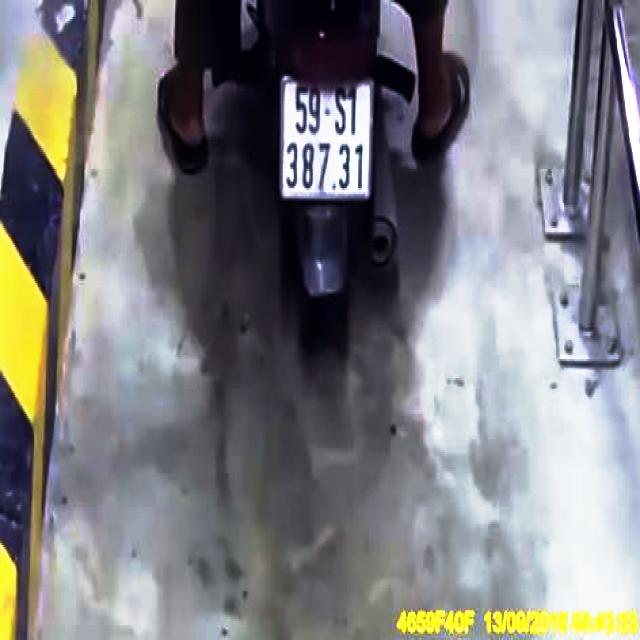license_plate: (282, 81, 375, 204)
